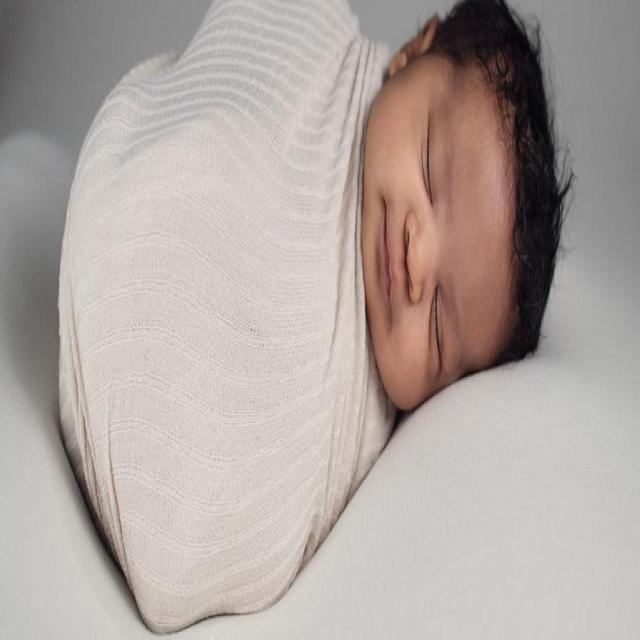child: (281, 2, 570, 425)
